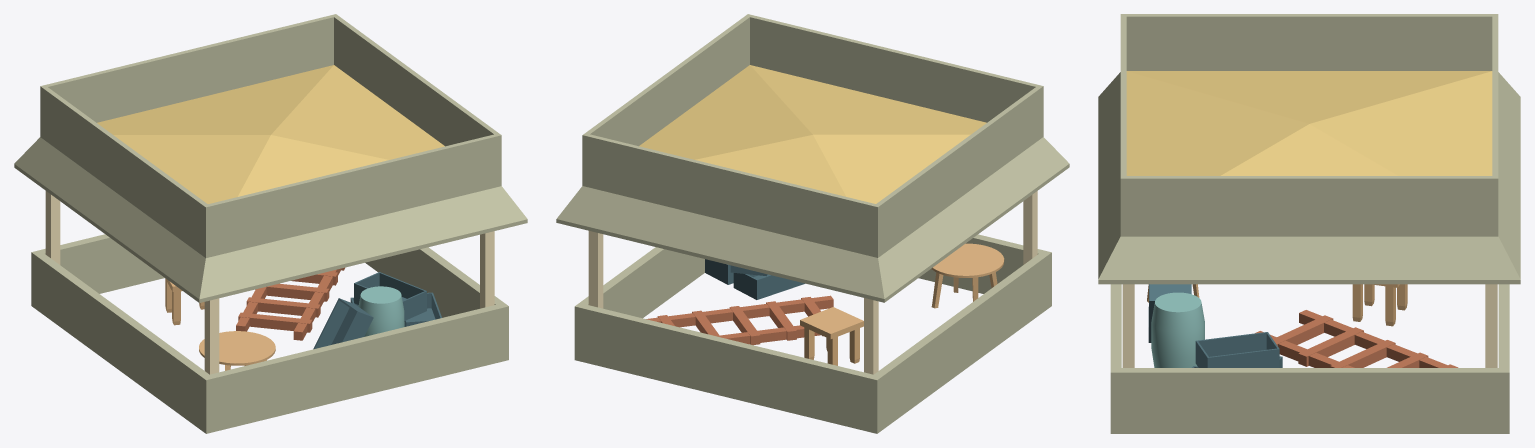
File: kiosk.fbx
The picture shows the model from 3 angles, left to right: view 1: azimuth 30°, elevation 25°; view 2: azimuth 150°, elevation 25°; view 3: azimuth 270°, elevation 25°; orthographic projection. The views are drawn at different scales.
Visible parts, largest first — view 1: Cube.028, Cube.023, Cube.034, Cube.029, Table, Cylinder.001, Cube.027, Cube.025, Cube.026, Cube.033; view 2: Cube.028, Cube.023, Cube.034, Table, Cube.033, Cube.029, Cube.024, Cube.026, Cube.027; view 3: Cube.028, Cube.023, Cube.034, Cylinder.001, Cube.029, Cube.033, Cube.024, Cube.025.
Part boxes in pixels (box(x1,y1,x2,y2)): Cube.028: box(14, 14, 527, 302); Cube.023: box(31, 234, 508, 433); Cube.034: box(236, 267, 344, 340); Cube.029: box(313, 272, 441, 349); Table: box(199, 331, 275, 370); Cylinder.001: box(358, 286, 404, 336); Cube.027: box(204, 298, 219, 374); Cube.025: box(480, 231, 494, 308); Cube.026: box(45, 191, 60, 264); Cube.033: box(165, 278, 204, 325); Cube.028: box(556, 14, 1069, 302); Cube.023: box(574, 234, 1051, 433); Cube.034: box(646, 295, 833, 345); Table: box(931, 243, 1004, 308); Cube.033: box(800, 307, 863, 365); Cube.029: box(705, 259, 804, 299); Cube.024: box(588, 231, 603, 308); Cube.026: box(864, 298, 878, 374); Cube.027: box(1023, 191, 1037, 264); Cube.028: box(1098, 14, 1520, 284); Cube.023: box(1110, 284, 1509, 433); Cube.034: box(1255, 310, 1458, 367); Cylinder.001: box(1151, 292, 1204, 367); Cube.029: box(1148, 284, 1282, 367); Cube.033: box(1352, 284, 1407, 326); Cube.024: box(1485, 284, 1497, 367); Cube.025: box(1122, 284, 1134, 367).
Bounding box in the file's own units: 353 × 229 × 345.
1 material, 1 textured.
